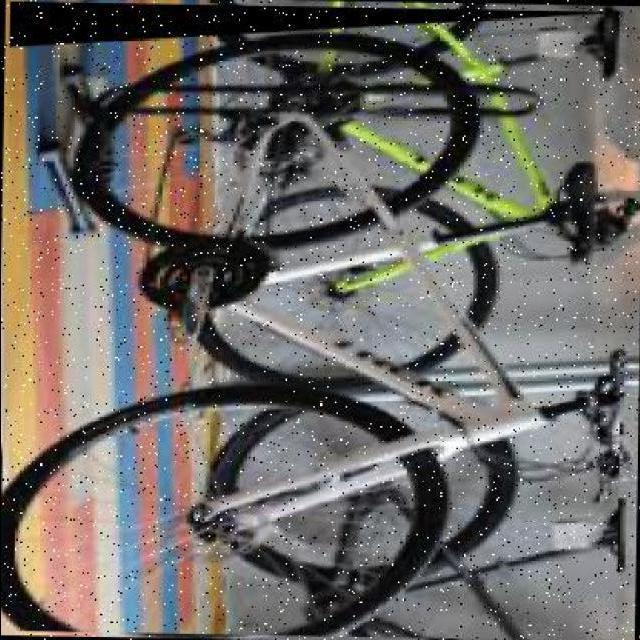bicycle: (3, 1, 629, 639)
